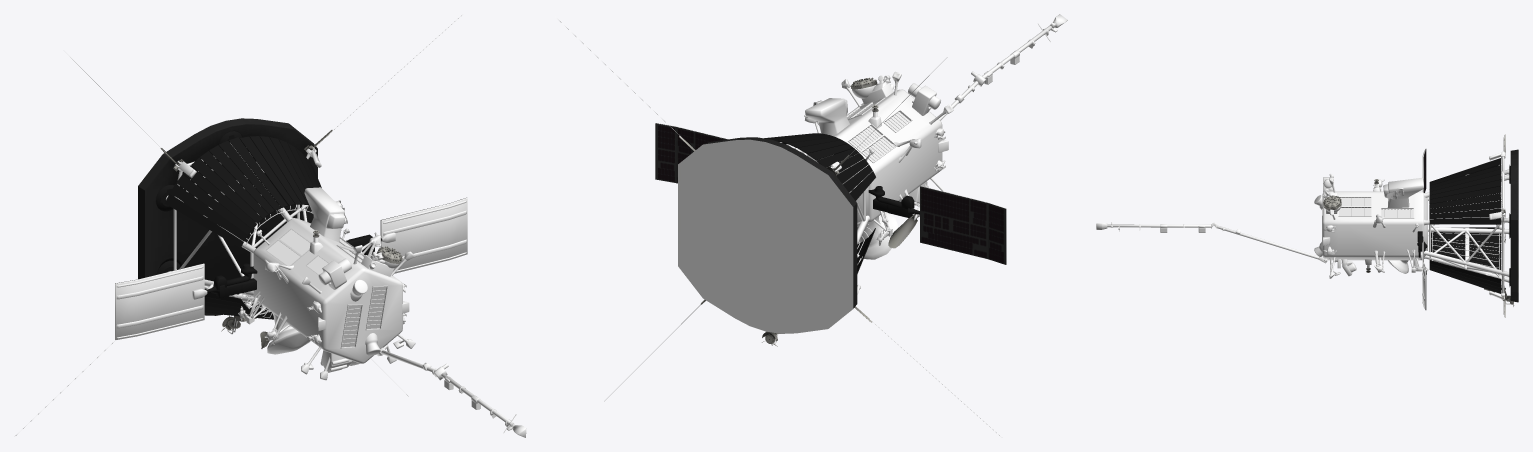
The model's file is parker_solar.glb.
3 views of the same model, side by side, from view 1: azimuth 30°, elevation 25°; view 2: azimuth 150°, elevation 25°; view 3: azimuth 270°, elevation 25° (orthographic). The views are drawn at different scales.
Visible parts, largest first — view 1: BUS, CoolingSystem, Instruments, CoolingSystem_frame, solarArray_arms, HGA; view 2: Instruments, BUS, CoolingSystem, CoolingSystem_frame, solarArray_arms; view 3: BUS, CoolingSystem, Instruments, CoolingSystem_frame.
Boxes of the visible parts, x1,y1,x2,y2 form: BUS: [115, 143, 526, 437]; CoolingSystem: [156, 131, 321, 319]; Instruments: [115, 118, 466, 348]; CoolingSystem_frame: [14, 14, 462, 436]; solarArray_arms: [206, 234, 381, 297]; HGA: [267, 331, 310, 354]; Instruments: [655, 77, 1006, 346]; BUS: [656, 14, 1067, 294]; CoolingSystem: [764, 133, 875, 273]; CoolingSystem_frame: [556, 17, 1001, 437]; solarArray_arms: [868, 186, 919, 217]; BUS: [1096, 148, 1509, 310]; CoolingSystem: [1429, 158, 1510, 293]; Instruments: [1323, 134, 1518, 317]; CoolingSystem_frame: [1322, 165, 1511, 304].
Bounding box in the file's own units: 5.75 × 5.26 × 6.61.
Materials: 7 (2 with a texture image).
